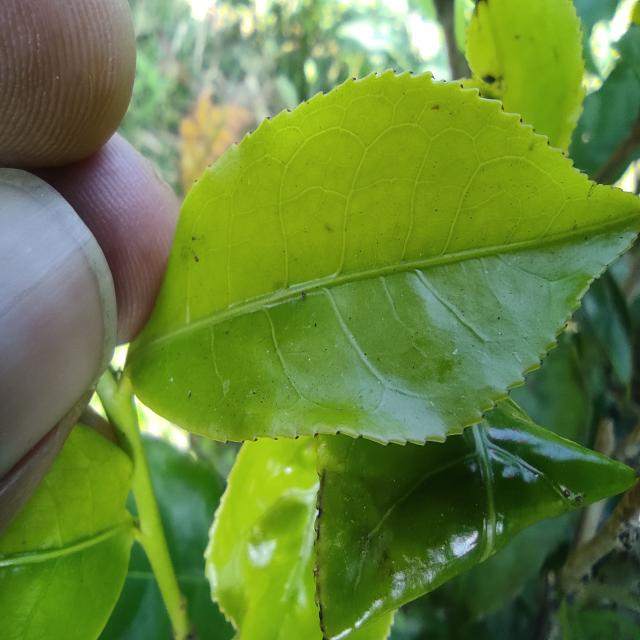Category C(4-7 days): (86, 46, 640, 469)
